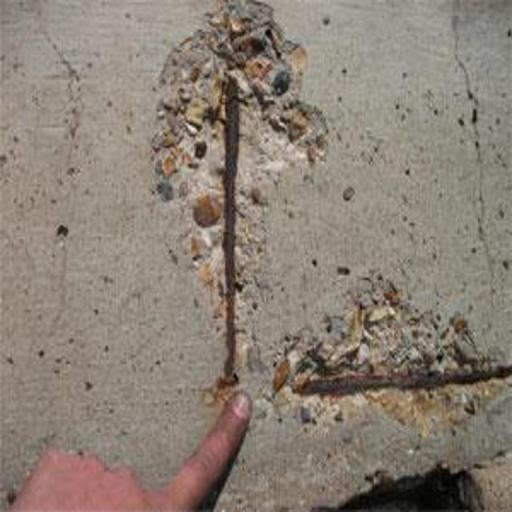spalling: (141, 4, 510, 433)
